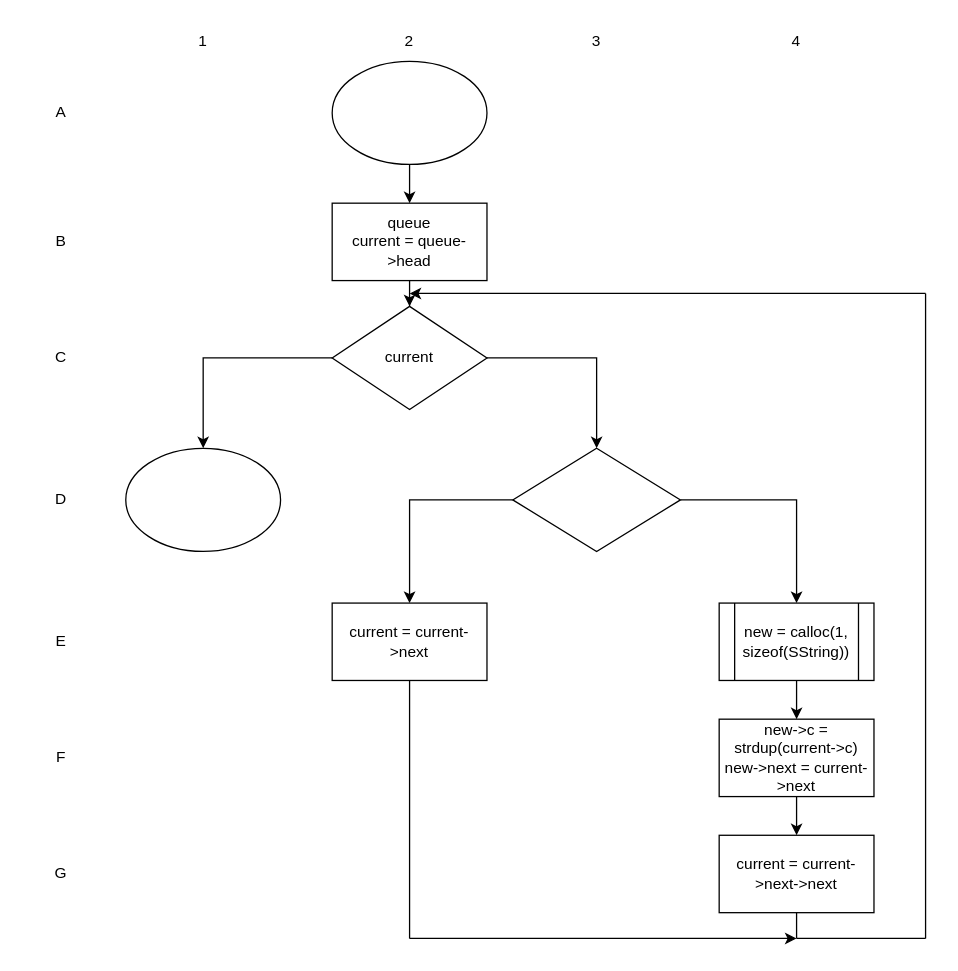
This 958x971 diagram has some shape labels left out. The centre of each missing label's shape, as x and y in pixels:
"end" belongs at point 202,499.
"queue_double _all_even" belongs at point 409,112.
"strlen(current->c)%2==0" belongs at point 595,499.
